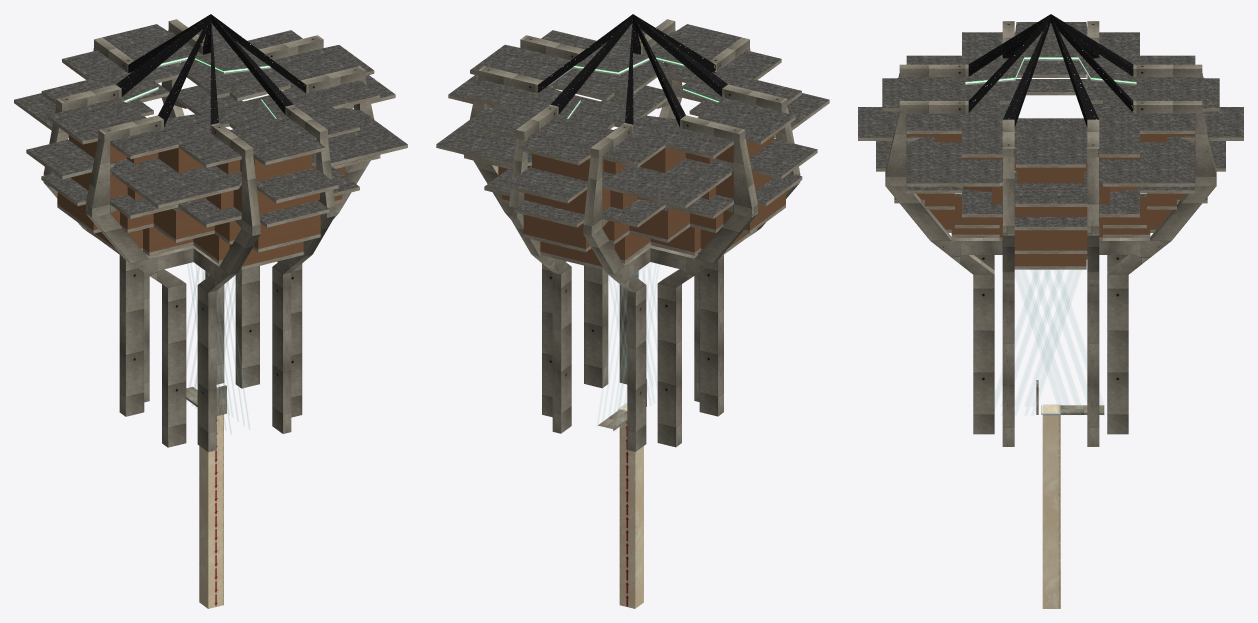
Rendered from entity16020.gltf.
The picture shows the model from 3 angles, left to right: view 1: azimuth 30°, elevation 25°; view 2: azimuth 150°, elevation 25°; view 3: azimuth 270°, elevation 25°; orthographic projection.
Visible parts, largest first — view 1: node_Exhibit_Str_Tower_2_Art, node_Exhibit_Str_Tower_2_Floor_5, node_Exhibit_Str_Tower_2_Floor_4, node_Exhibit_Str_Tower_2_Glass, node_Exhibit_Str_Tower_2_Floor_3, node_Elevator_Machine, node_Exhibit_Str_Tower_2_Floor_2, node_Exhibit_Str_Tower_2_Floor_1, node_Elevator_Glasswall; view 2: node_Exhibit_Str_Tower_2_Art, node_Exhibit_Str_Tower_2_Floor_5, node_Exhibit_Str_Tower_2_Floor_4, node_Exhibit_Str_Tower_2_Glass, node_Exhibit_Str_Tower_2_Floor_3, node_Elevator_Machine, node_Exhibit_Str_Tower_2_Floor_2, node_Exhibit_Str_Tower_2_Floor_1, node_Elevator_Glasswall; view 3: node_Exhibit_Str_Tower_2_Art, node_Exhibit_Str_Tower_2_Floor_5, node_Exhibit_Str_Tower_2_Floor_4, node_Exhibit_Str_Tower_2_Glass, node_Exhibit_Str_Tower_2_Floor_3, node_Elevator_Machine, node_Elevator_Glasswall, node_Exhibit_Str_Tower_2_Floor_2, node_Exhibit_Str_Tower_2_Floor_1.
Part boxes in pixels (bbox=[...]): node_Exhibit_Str_Tower_2_Art: bbox=[43, 14, 374, 452]; node_Exhibit_Str_Tower_2_Floor_5: bbox=[41, 23, 380, 167]; node_Exhibit_Str_Tower_2_Floor_4: bbox=[14, 60, 407, 208]; node_Exhibit_Str_Tower_2_Glass: bbox=[57, 135, 345, 266]; node_Exhibit_Str_Tower_2_Floor_3: bbox=[41, 83, 380, 227]; node_Elevator_Machine: bbox=[199, 414, 223, 608]; node_Exhibit_Str_Tower_2_Floor_2: bbox=[57, 167, 341, 252]; node_Exhibit_Str_Tower_2_Floor_1: bbox=[86, 185, 303, 270]; node_Elevator_Glasswall: bbox=[192, 269, 233, 414]; node_Exhibit_Str_Tower_2_Art: bbox=[470, 14, 800, 451]; node_Exhibit_Str_Tower_2_Floor_5: bbox=[464, 23, 801, 167]; node_Exhibit_Str_Tower_2_Floor_4: bbox=[436, 60, 829, 208]; node_Exhibit_Str_Tower_2_Glass: bbox=[498, 135, 785, 266]; node_Exhibit_Str_Tower_2_Floor_3: bbox=[464, 83, 802, 227]; node_Elevator_Machine: bbox=[619, 404, 643, 608]; node_Exhibit_Str_Tower_2_Floor_2: bbox=[502, 166, 785, 252]; node_Exhibit_Str_Tower_2_Floor_1: bbox=[540, 185, 757, 269]; node_Elevator_Glasswall: bbox=[614, 267, 654, 409]; node_Exhibit_Str_Tower_2_Art: bbox=[885, 14, 1216, 446]; node_Exhibit_Str_Tower_2_Floor_5: bbox=[882, 22, 1219, 167]; node_Exhibit_Str_Tower_2_Floor_4: bbox=[858, 60, 1243, 206]; node_Exhibit_Str_Tower_2_Glass: bbox=[894, 134, 1207, 266]; node_Exhibit_Str_Tower_2_Floor_3: bbox=[876, 79, 1225, 230]; node_Elevator_Machine: bbox=[1042, 405, 1060, 608]; node_Elevator_Glasswall: bbox=[995, 270, 1101, 406]; node_Exhibit_Str_Tower_2_Floor_2: bbox=[894, 118, 1207, 253]; node_Exhibit_Str_Tower_2_Floor_1: bbox=[946, 172, 1155, 269].
Size of what is drawn, in the model's own units: 32.15 by 54.38 by 32.19.
Materials: 5 (4 with a texture image).
